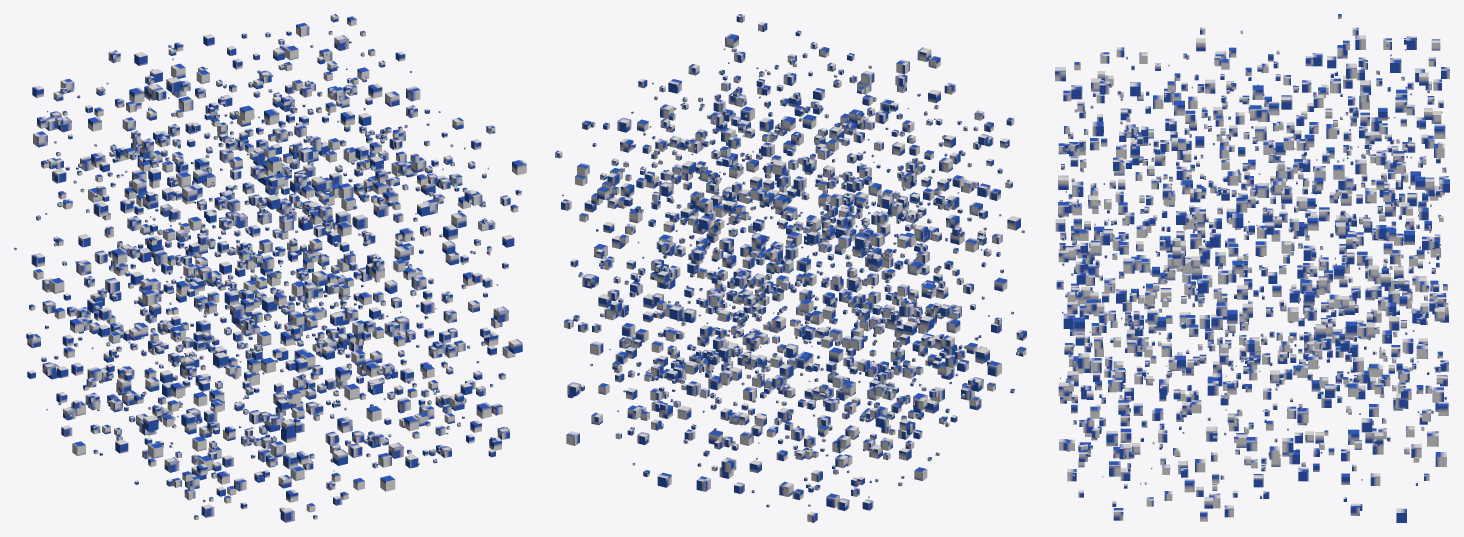
File: many_islands.obj
3 renders of one model, left to right at view 1: azimuth 30°, elevation 25°; view 2: azimuth 150°, elevation 25°; view 3: azimuth 270°, elevation 25°, orthographic. The views are drawn at different scales.
Bounding box in the file's own units: 20.55 × 20.42 × 20.45.
Materials: 1 (1 with a texture image).
